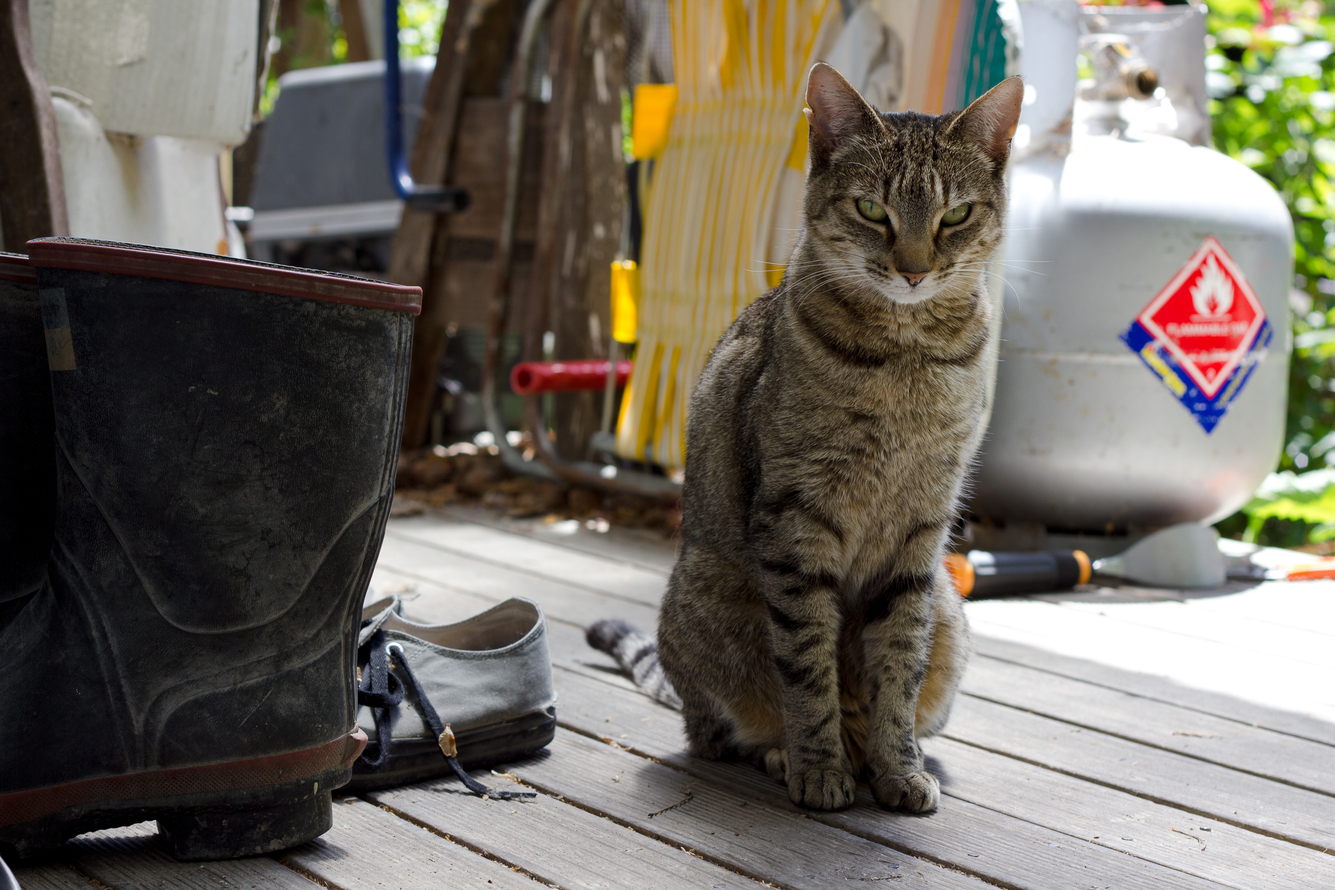cat: (588, 61, 1053, 807)
